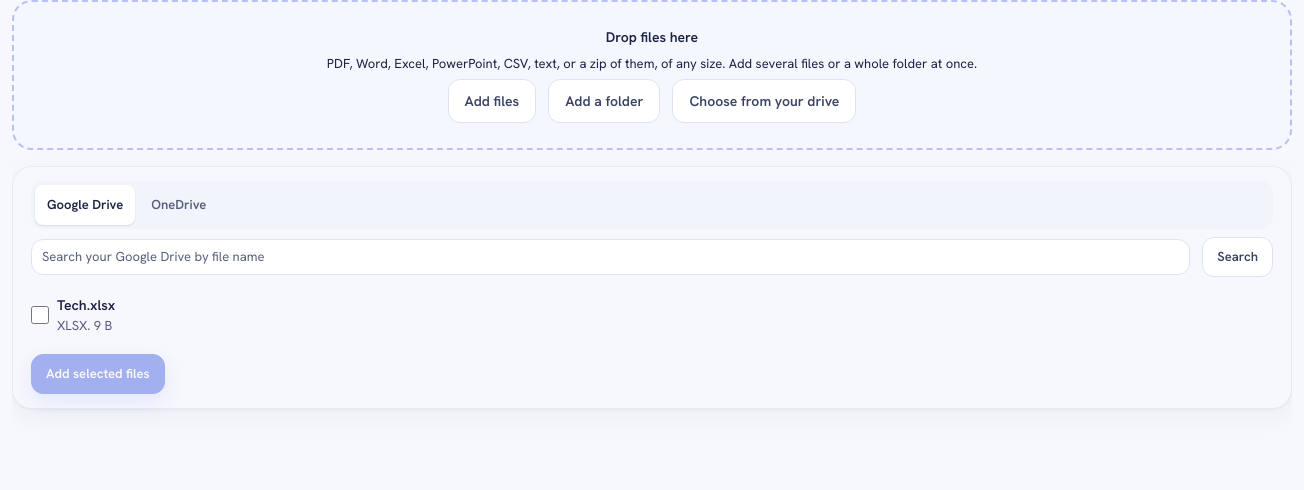
Scenario: a file bound to its company but still at parsed keeps being followed to Ready
Click the checkbox at point(40, 315), box x1=31 y1=306 x2=49 y2=324
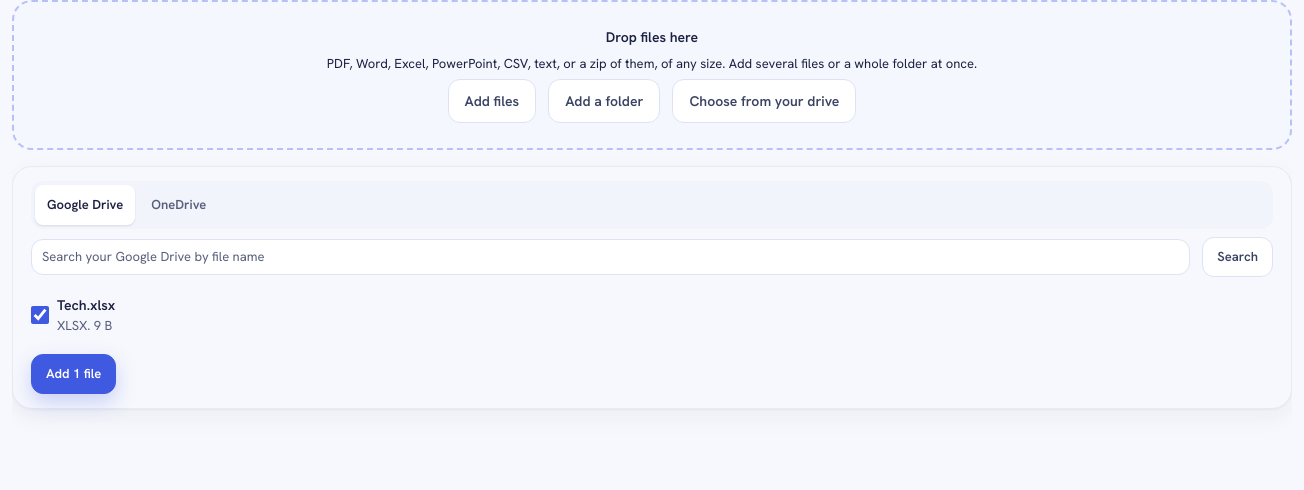
Click the button "Add 1 file" at point(74, 374), box x1=31 y1=354 x2=116 y2=394
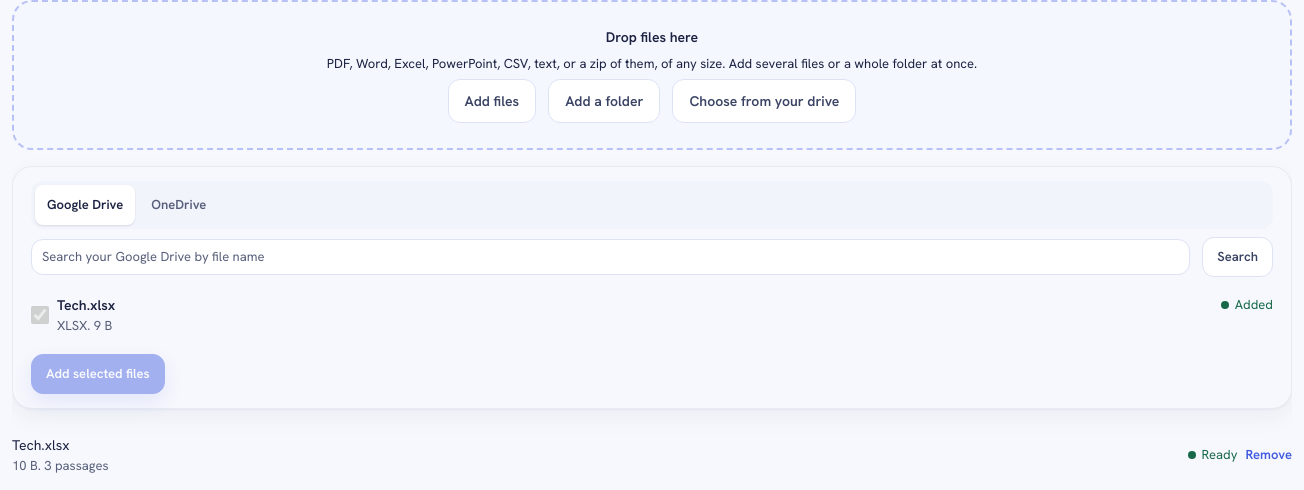
Result: the text "Ready" is shown at x1=1188 y1=445 x2=1238 y2=465
